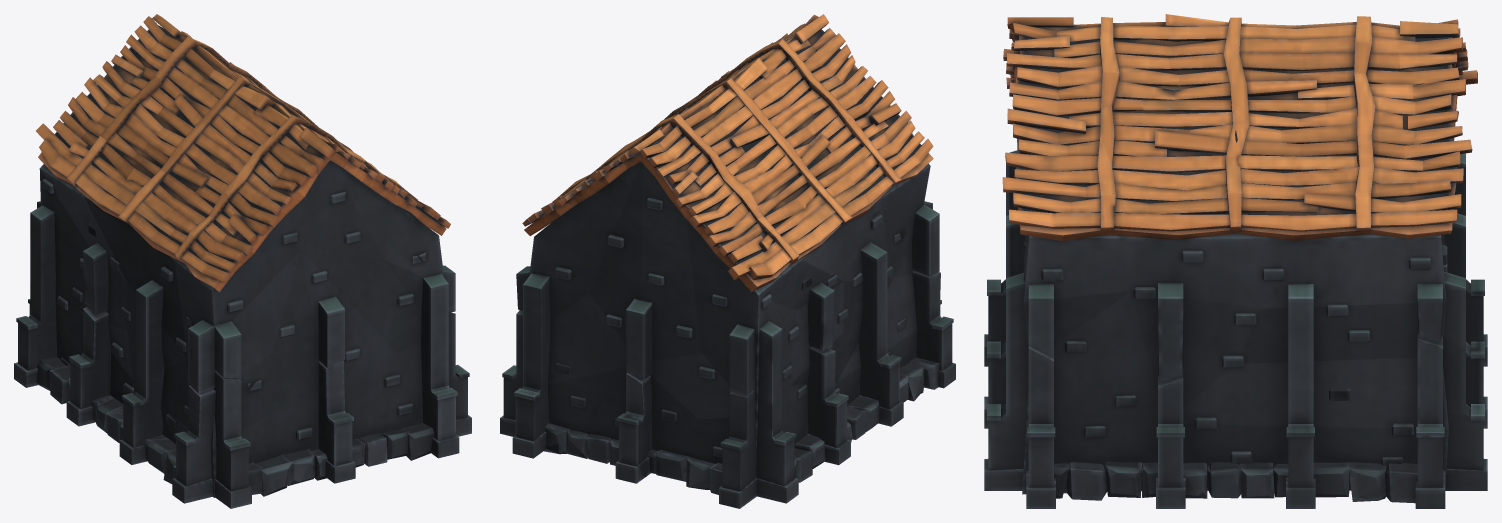
File: Temple.glb
3 views of the same model, side by side, from view 1: azimuth 30°, elevation 25°; view 2: azimuth 150°, elevation 25°; view 3: azimuth 270°, elevation 25° (orthographic). The views are drawn at different scales.
Visible parts, largest first — view 1: node_78fc1bed_0180_4c83_aacd_e25651c24fba_mesh0; view 2: node_78fc1bed_0180_4c83_aacd_e25651c24fba_mesh0; view 3: node_78fc1bed_0180_4c83_aacd_e25651c24fba_mesh0.
Part boxes in pixels (x1,y1,x2,y2): node_78fc1bed_0180_4c83_aacd_e25651c24fba_mesh0: (14, 14, 471, 508); node_78fc1bed_0180_4c83_aacd_e25651c24fba_mesh0: (500, 14, 955, 508); node_78fc1bed_0180_4c83_aacd_e25651c24fba_mesh0: (984, 14, 1487, 508).
Size of the model in its own units: 2.93 by 3.24 by 3.6.
Materials: 1 (1 with a texture image).
